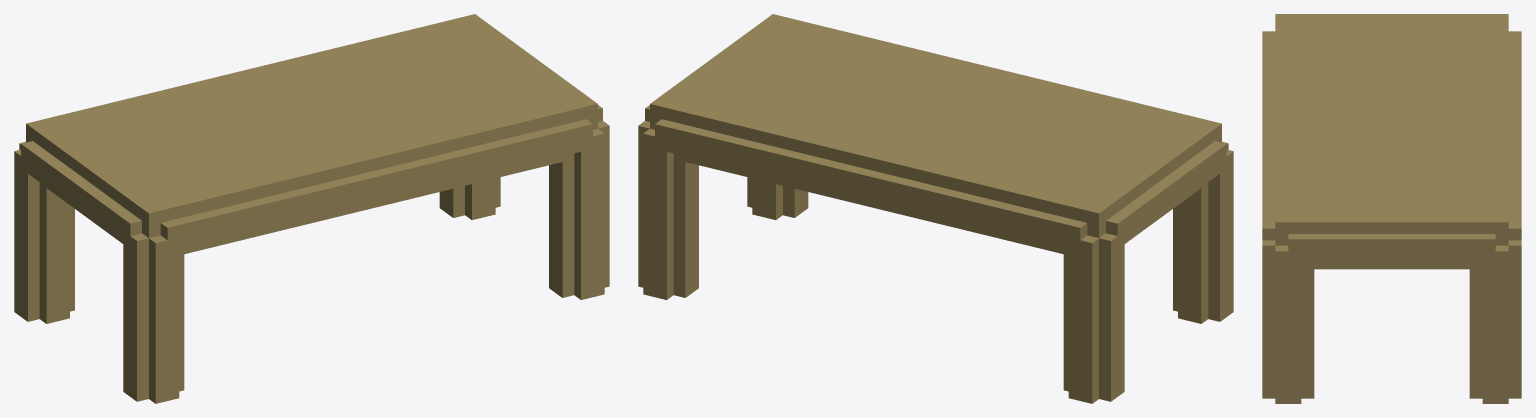
The model's file is PcANdTisch3.fbx.
The picture shows the model from 3 angles, left to right: view 1: azimuth 30°, elevation 25°; view 2: azimuth 150°, elevation 25°; view 3: azimuth 270°, elevation 25°; orthographic projection. The views are drawn at different scales.
Visible parts, largest first — view 1: PcTisch3; view 2: PcTisch3; view 3: PcTisch3.
Part boxes in pixels (x1=…): PcTisch3: x1=14, y1=14, x2=609, y2=403; PcTisch3: x1=638, y1=14, x2=1233, y2=403; PcTisch3: x1=1262, y1=14, x2=1521, y2=403.
Bounding box in the file's own units: 250 × 93.75 × 125.
